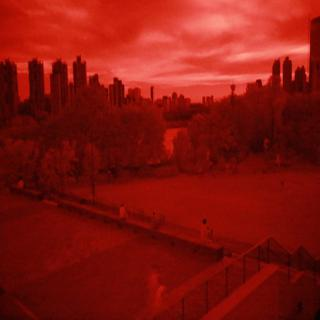person: (197, 207, 219, 245), (111, 197, 133, 229)
